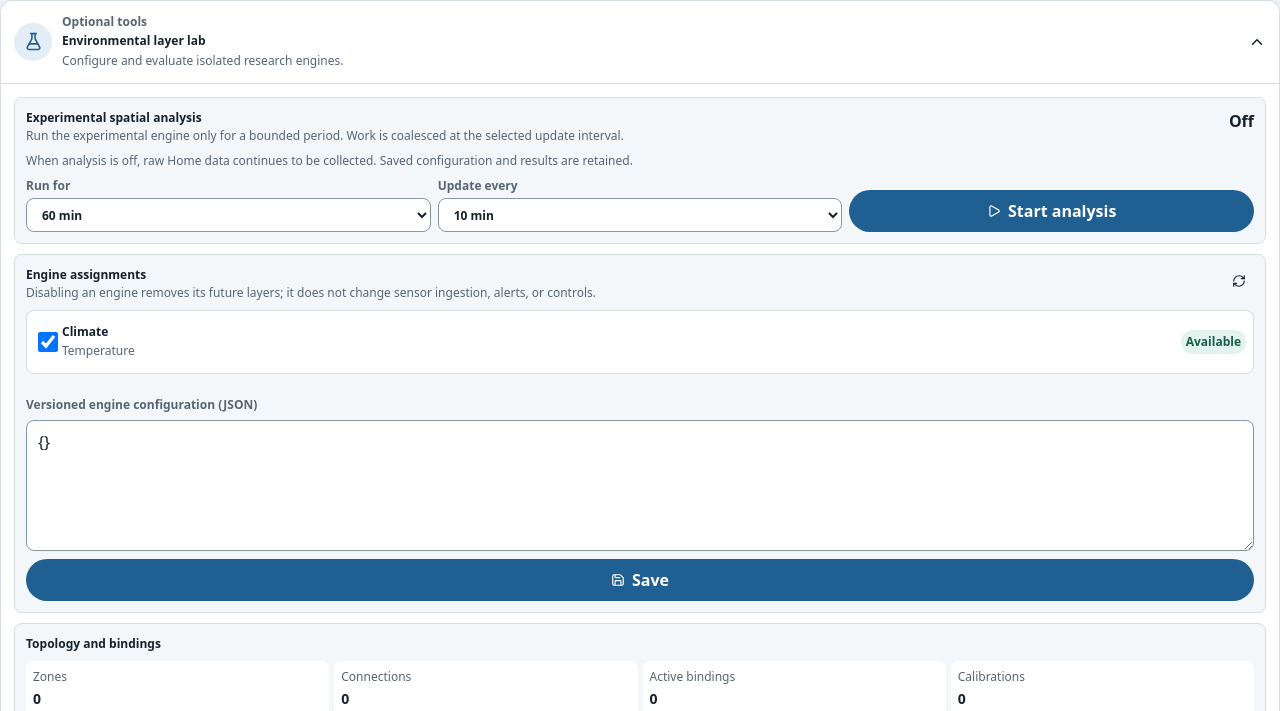
Test: SpatialLayerLab guided calibration › does not let visibility revalidation supersede a pending start
Expected: the heading "Experimental spatial analysis" is shown, [26, 109, 202, 126]
Click the button "Start analysis".
click(1052, 211)  # box [849, 190, 1254, 232]
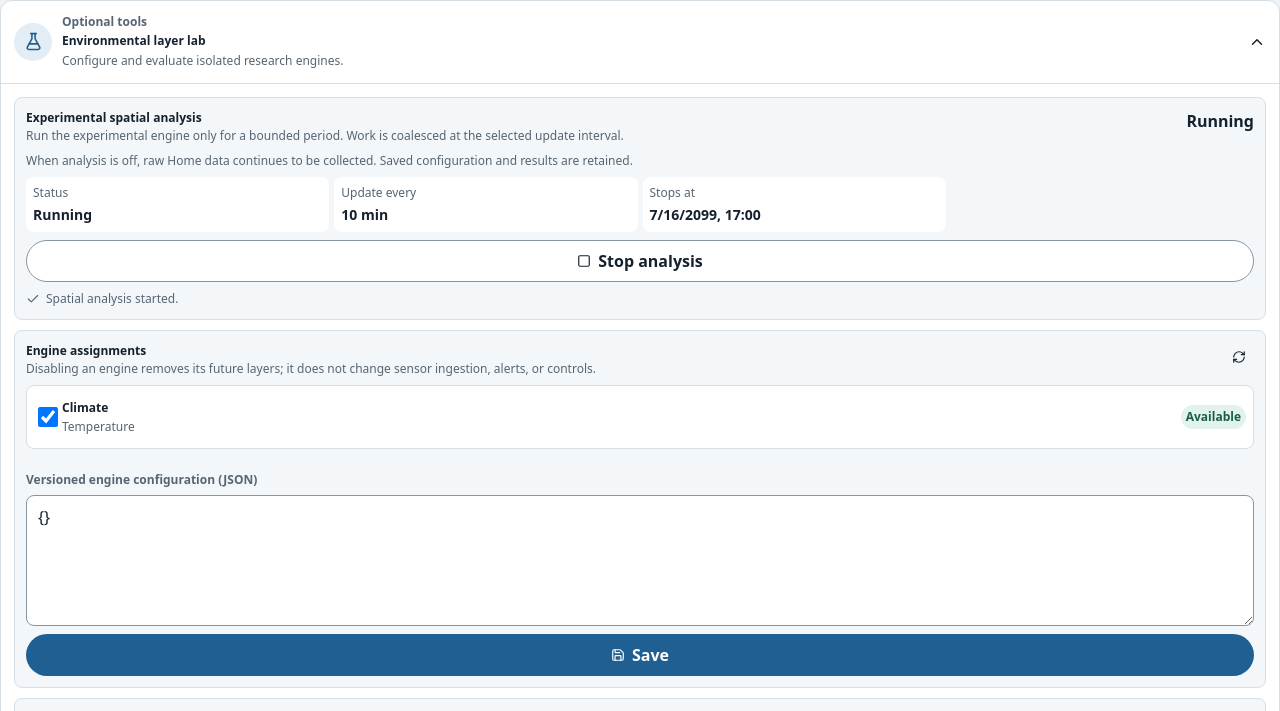
Result: the button "Stop analysis" is enabled at [26, 240, 1254, 282]
Result: the text "Running" is shown at [1186, 109, 1254, 133]
